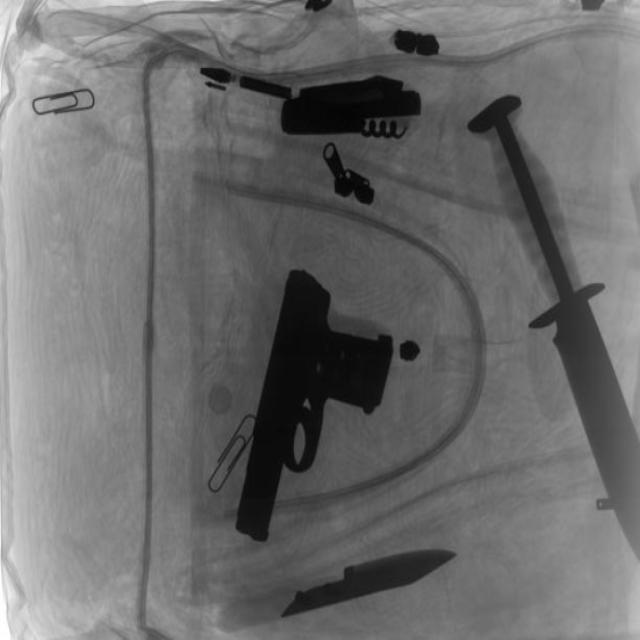GUN: (239, 274, 391, 548), (267, 74, 425, 142)
KNIFE: (497, 65, 640, 552), (278, 526, 458, 637)
